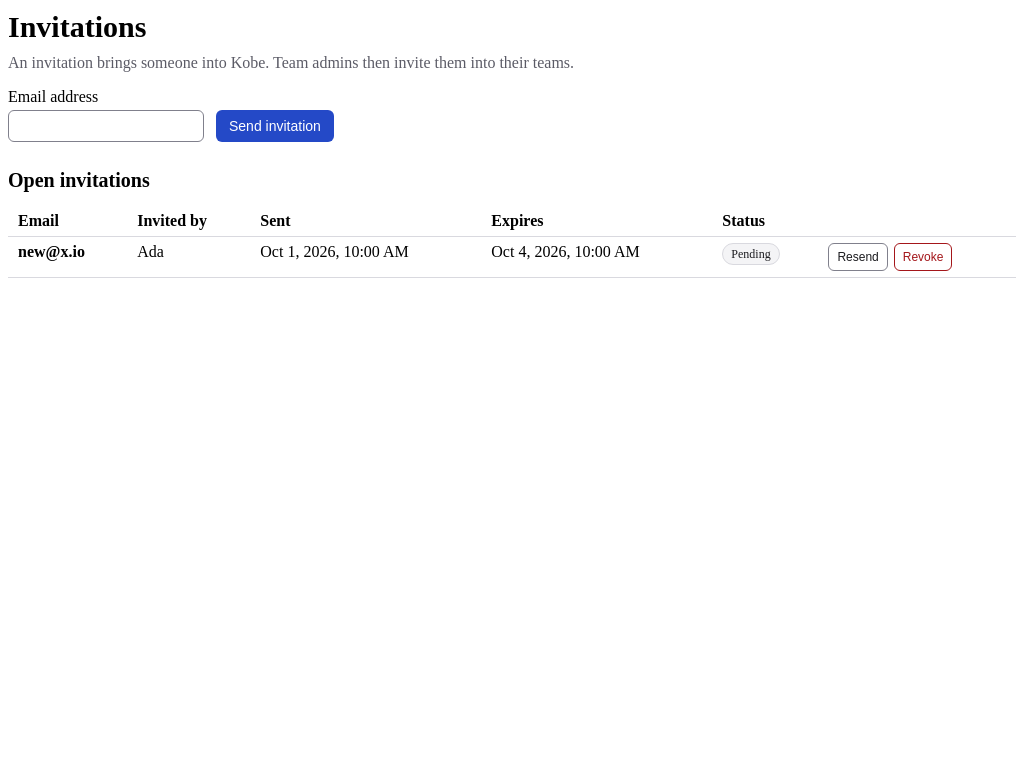
it: Invitations › resends and revokes
What coordinates should you click on to do the following:
click the button named "Resend to new@x.io"
I would click on:
 (858, 256)
Its box is [828, 242, 888, 270].
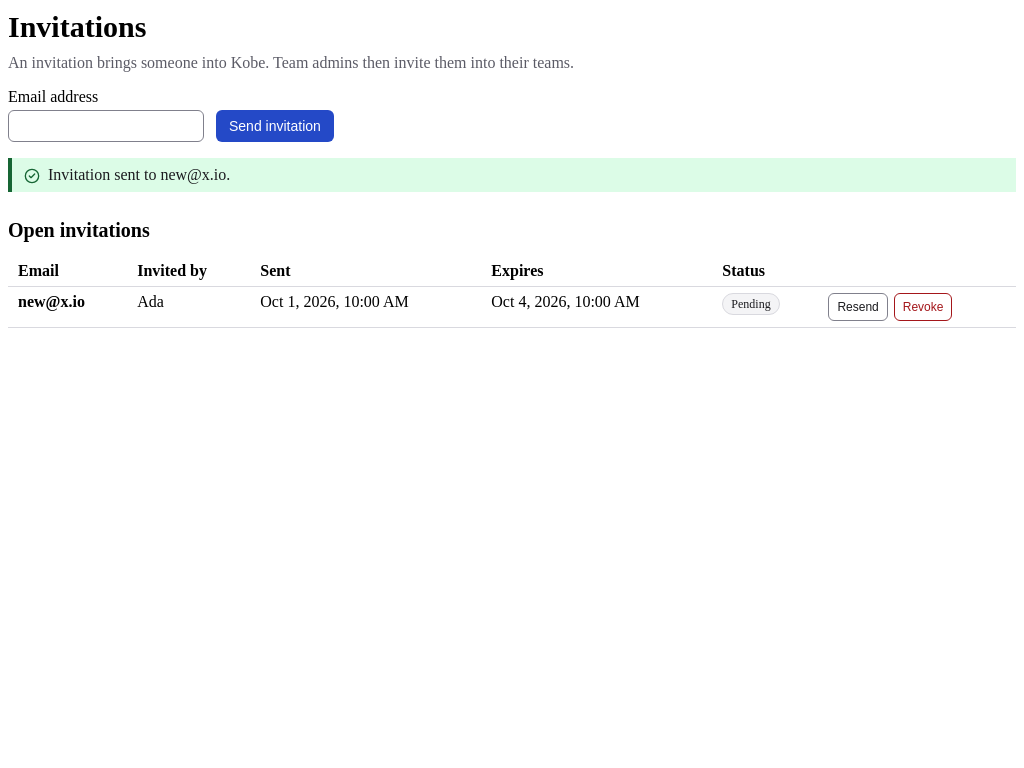
Expected: the text "Invitation sent to new@x.io." is shown, [48, 166, 230, 182]
What coordinates should you click on to do the following:
click the button named "Revoke invitation to new@x.io"
I would click on:
 (923, 306)
Its box is [894, 292, 952, 320].
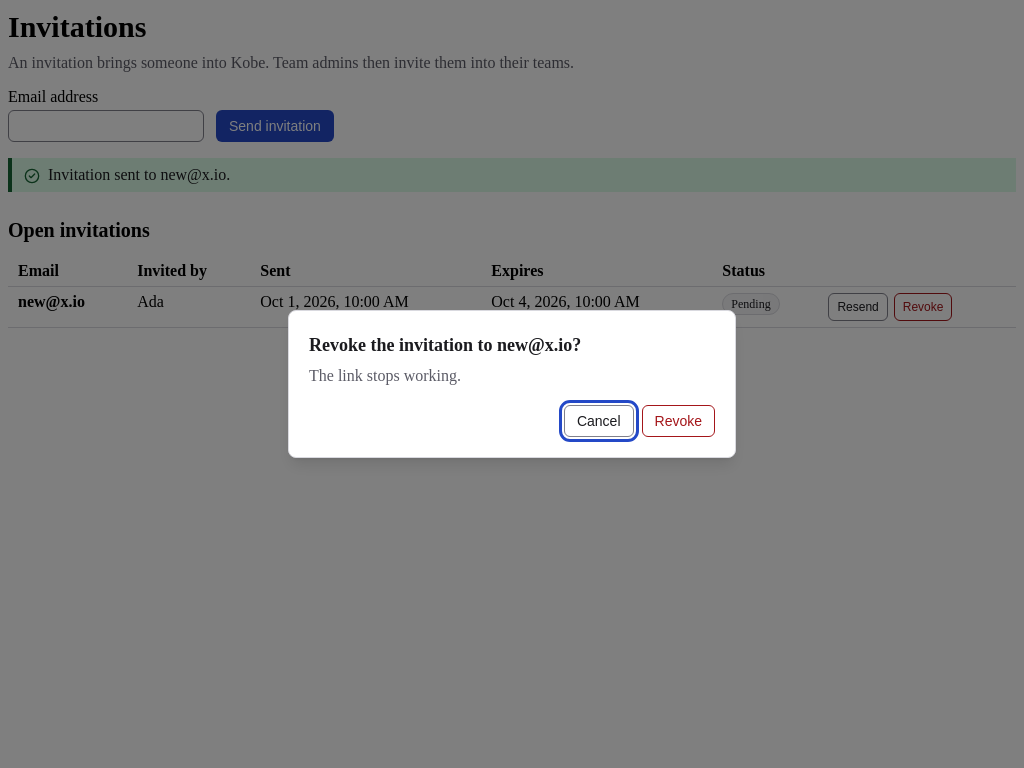
What coordinates should you click on to do the following:
click the button "Cancel"
I would click on:
 (599, 421)
Its box is [564, 405, 634, 437].
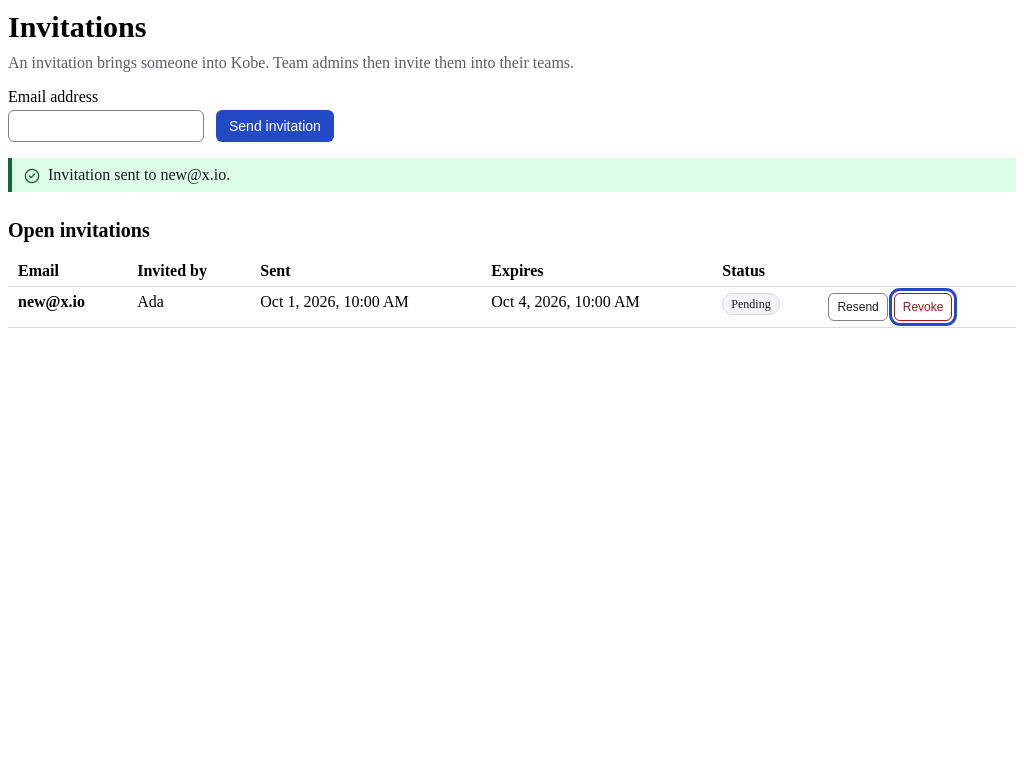
What coordinates should you click on to do the following:
click the button named "Revoke invitation to new@x.io"
I would click on:
 (923, 306)
Its box is [894, 292, 952, 320].
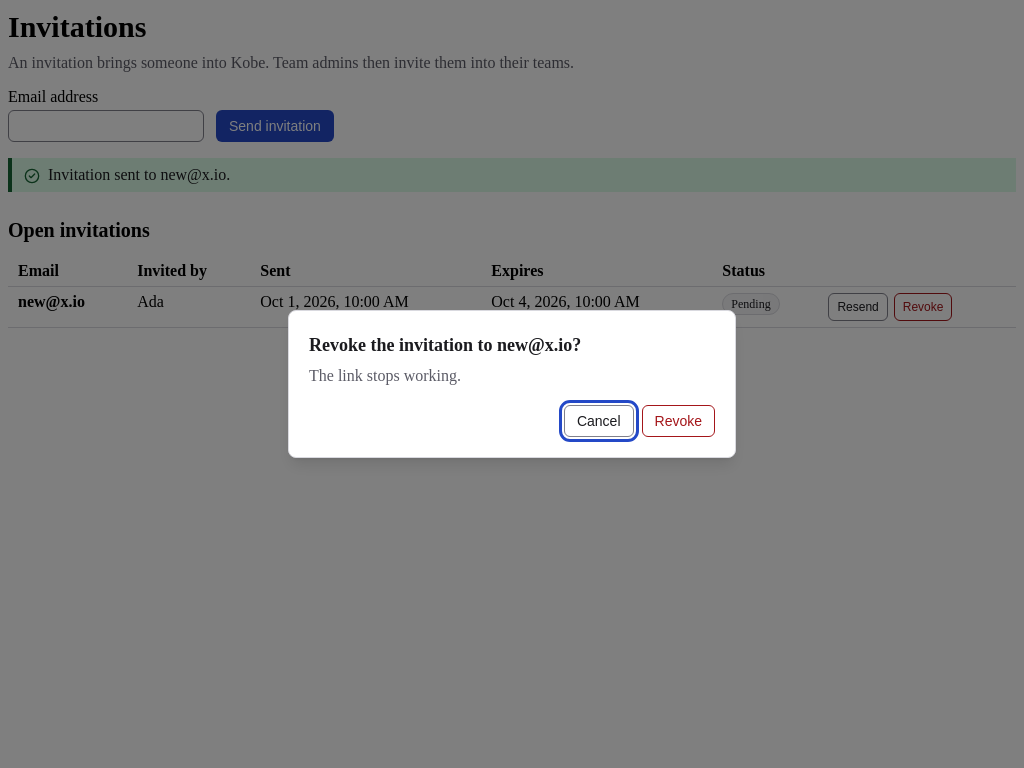
What coordinates should you click on to do the following:
click the button "Revoke"
I would click on:
 (678, 421)
Its box is [642, 405, 715, 437].
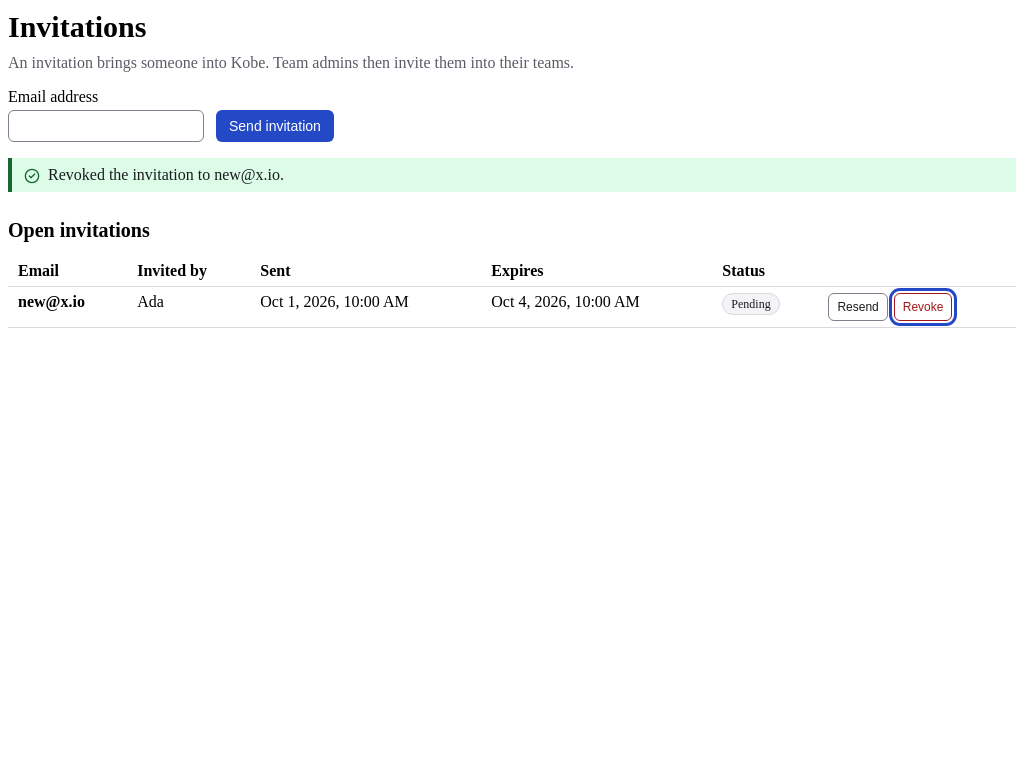
Expected: the text "Revoked the invitation to new@x.io." is shown, [48, 166, 284, 182]
